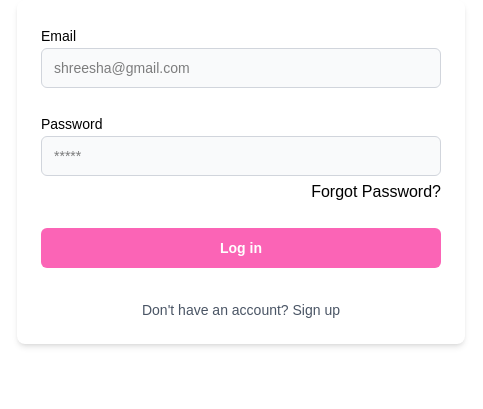
Test: LoginForm › should show error message on failed login
Type "test@example.com" into the field labelled "Email" at (241,68), box [41,48,441,88]
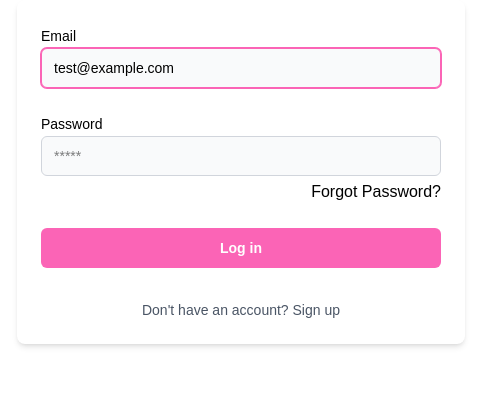
Type "wrongpassword" into the password field labelled "Password" at (241,156), box [41,136,441,176]
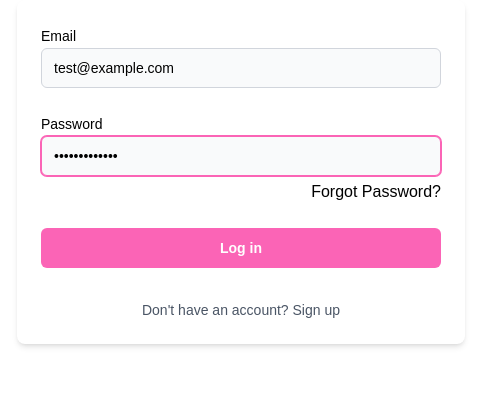
Click the button "Log in" at (241,248), box [41,228,441,268]
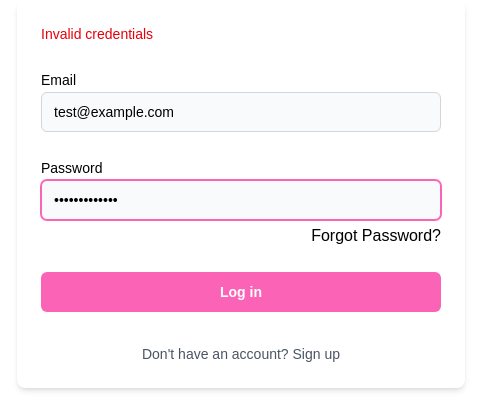
Check: the text "Invalid credentials" is shown, box [41,26,153,42]
